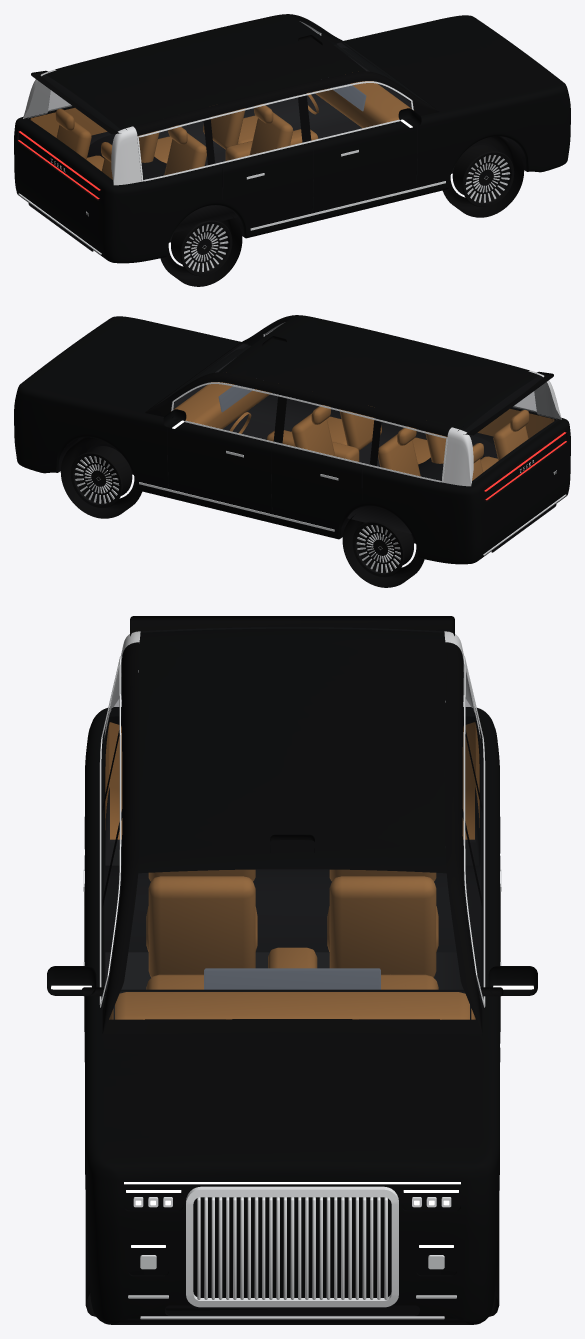
The model's file is zeekr-9x.glb.
The picture shows the model from 3 angles, top to bottom: view 1: azimuth 30°, elevation 25°; view 2: azimuth 150°, elevation 25°; view 3: azimuth 270°, elevation 25°; orthographic projection. The views are drawn at different scales.
Visible parts, largest first — view 1: body, cabin, wheel_FR, wheel_RR; view 2: body, cabin, wheel_FL, wheel_RL; view 3: body, cabin.
Part boxes in pixels (x1,y1,x2,y2): body: (14, 14, 570, 263); cabin: (30, 46, 413, 232); wheel_FR: (442, 136, 524, 217); wheel_RR: (160, 213, 242, 286); body: (14, 315, 570, 564); cabin: (171, 347, 554, 533); wheel_FL: (60, 437, 142, 518); wheel_RL: (342, 514, 424, 587); body: (47, 616, 537, 1324); cabin: (105, 722, 479, 1019).
Bounding box in the file's own units: 5.3 × 1.85 × 2.39.
